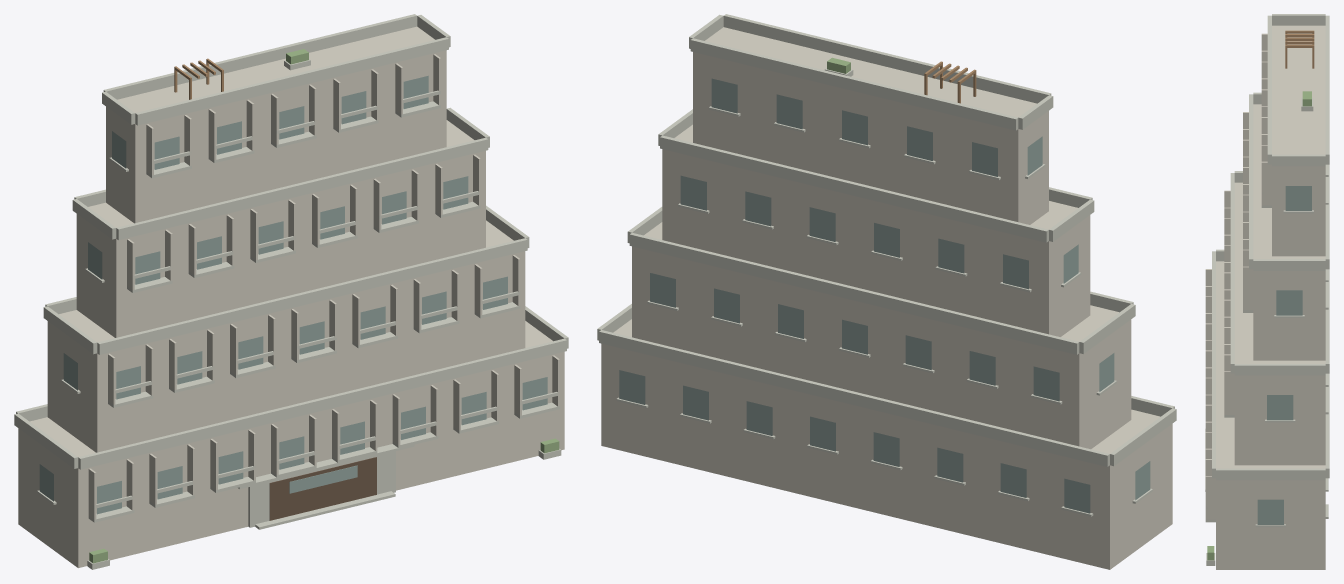
File: residential_4x1_terraces.glb
The picture shows the model from 3 angles, left to right: view 1: azimuth 30°, elevation 25°; view 2: azimuth 150°, elevation 25°; view 3: azimuth 270°, elevation 25°; orthographic projection. The views are drawn at different scales.
Visible parts, largest first — view 1: residential_4x1_terraces_0; view 2: residential_4x1_terraces_0; view 3: residential_4x1_terraces_0.
Boxes of the visible parts, bbox=[...] form: residential_4x1_terraces_0: bbox=[14, 14, 568, 569]; residential_4x1_terraces_0: bbox=[597, 14, 1176, 569]; residential_4x1_terraces_0: bbox=[1205, 14, 1329, 569].
Bounding box in the file's own units: 31 × 25.5 × 7.4.
